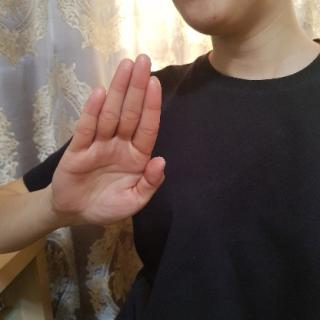SEEN: (44, 53, 180, 229)
